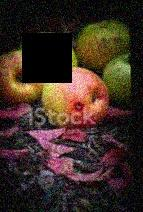rotten apple: (37, 66, 109, 128), (76, 20, 130, 68)
